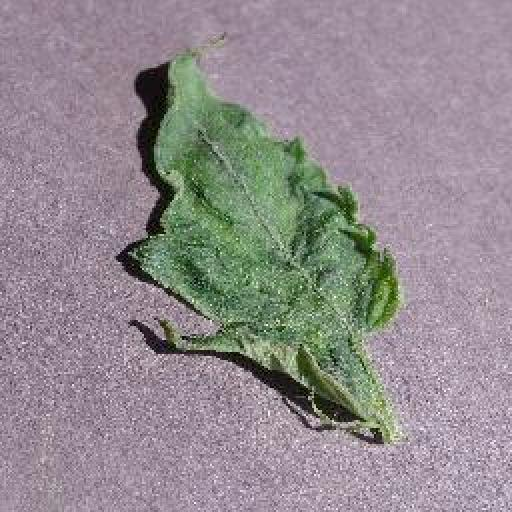disease_tomato: (125, 48, 403, 400)
